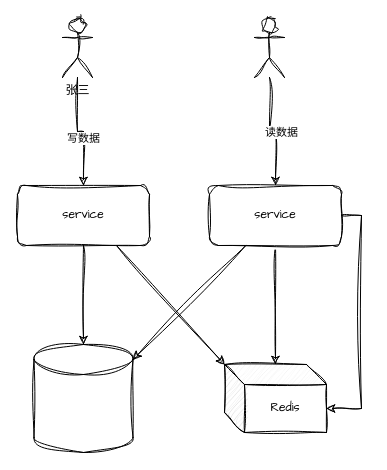
The diagram is 387 pixels wide and 470 high, and some of its shapes have lost their labels. The box of each missing label's shape, as (x1, y1, x2, y2) in pixels:
MySQL: (33, 344, 133, 452)
李四: (254, 16, 284, 78)
